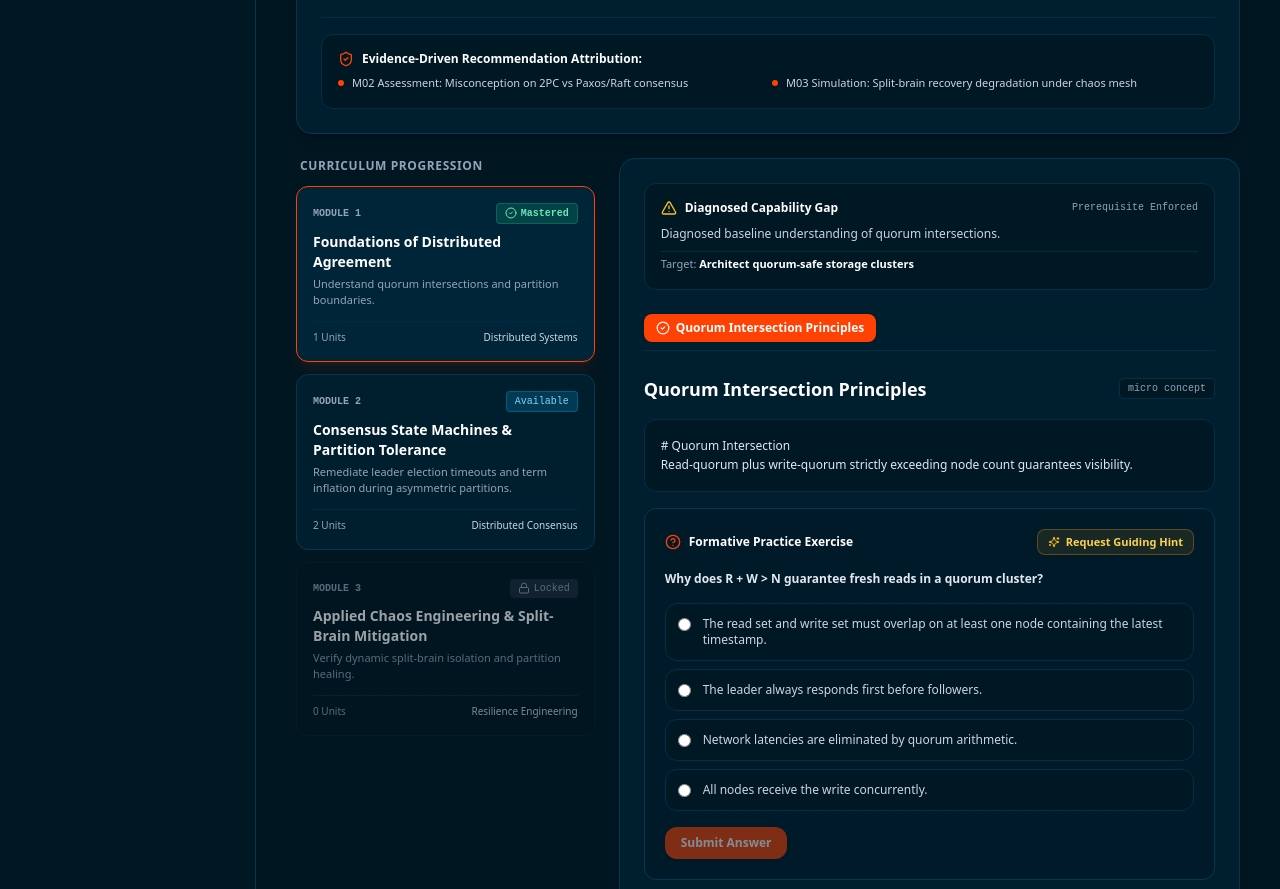
Scenario: Priority 18: Training Curriculum & Learning Pathway Engine Tests › evaluates interactive formative exercise with Explain Why & Explain How feedback
(page scrolled)
Click the heading "Consensus State Machines & Partition Tolerance": click(413, 439) x1=313 y1=420 x2=512 y2=458
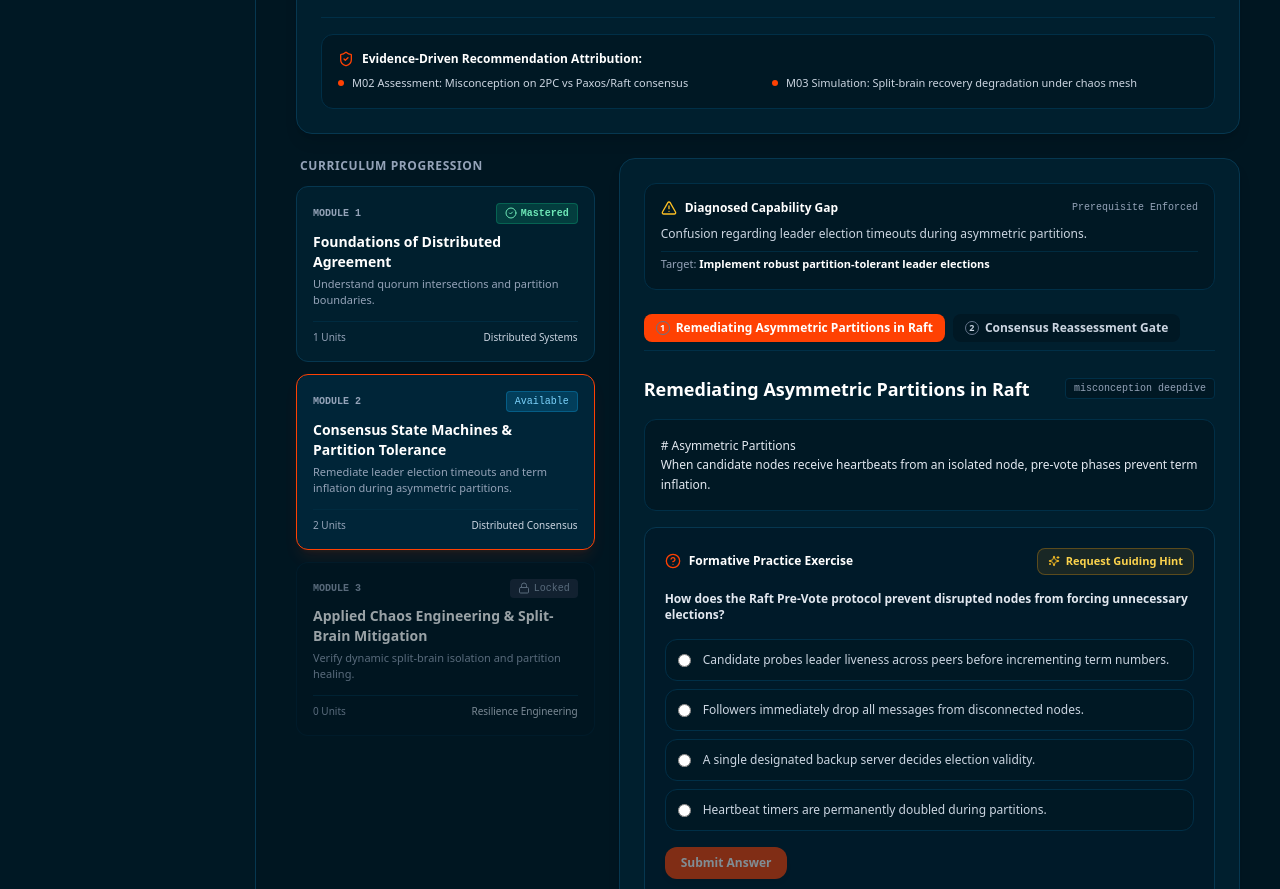
Check: the text "How does the Raft Pre-Vote protocol prevent" is shown, box x1=665 y1=590 x2=1188 y2=622
Note: Select the correct radio option
Click the text "Candidate probes leader liveness across peers before incrementing term numbers": click(936, 660) x1=703 y1=652 x2=1169 y2=668
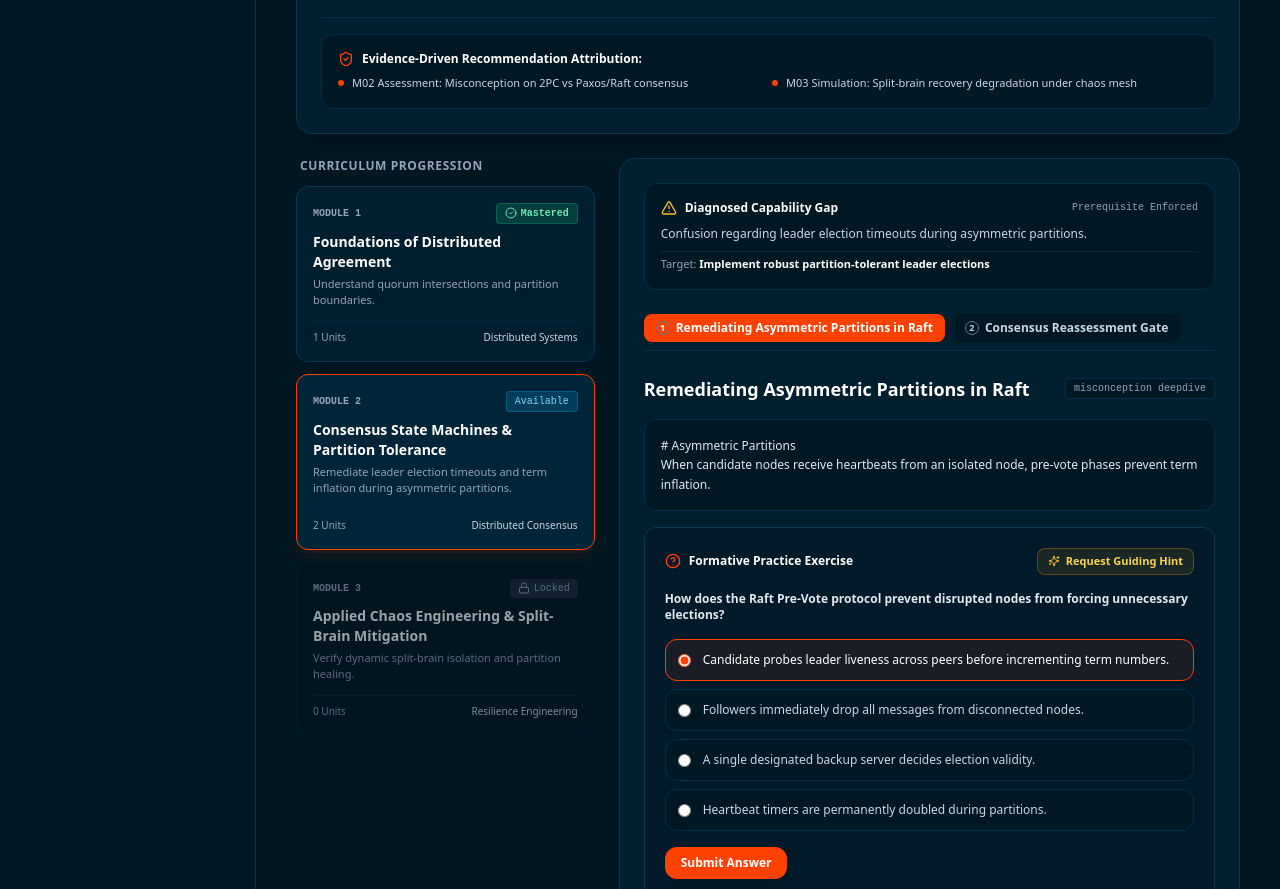
Click the button "Submit Answer": click(726, 862) x1=665 y1=846 x2=788 y2=878
(page scrolled)
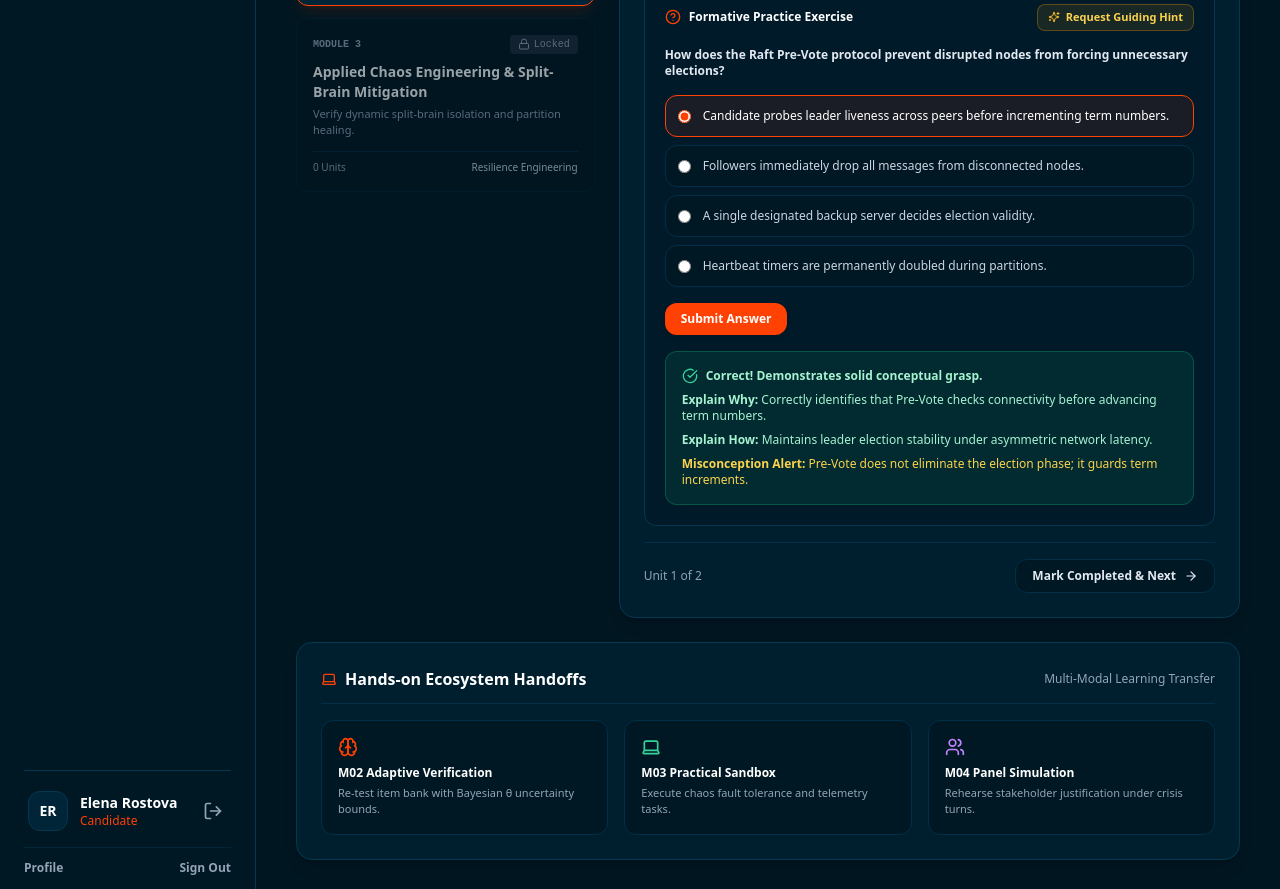
Check: the text "Correct! Demonstrates solid conceptual grasp." is shown, box x1=706 y1=368 x2=982 y2=384
Check: the text "Correctly identifies that Pre-Vote checks connectivity" is shown, box x1=682 y1=390 x2=1157 y2=424
Check: the text "Maintains leader election stability" is shown, box x1=762 y1=430 x2=1152 y2=448
